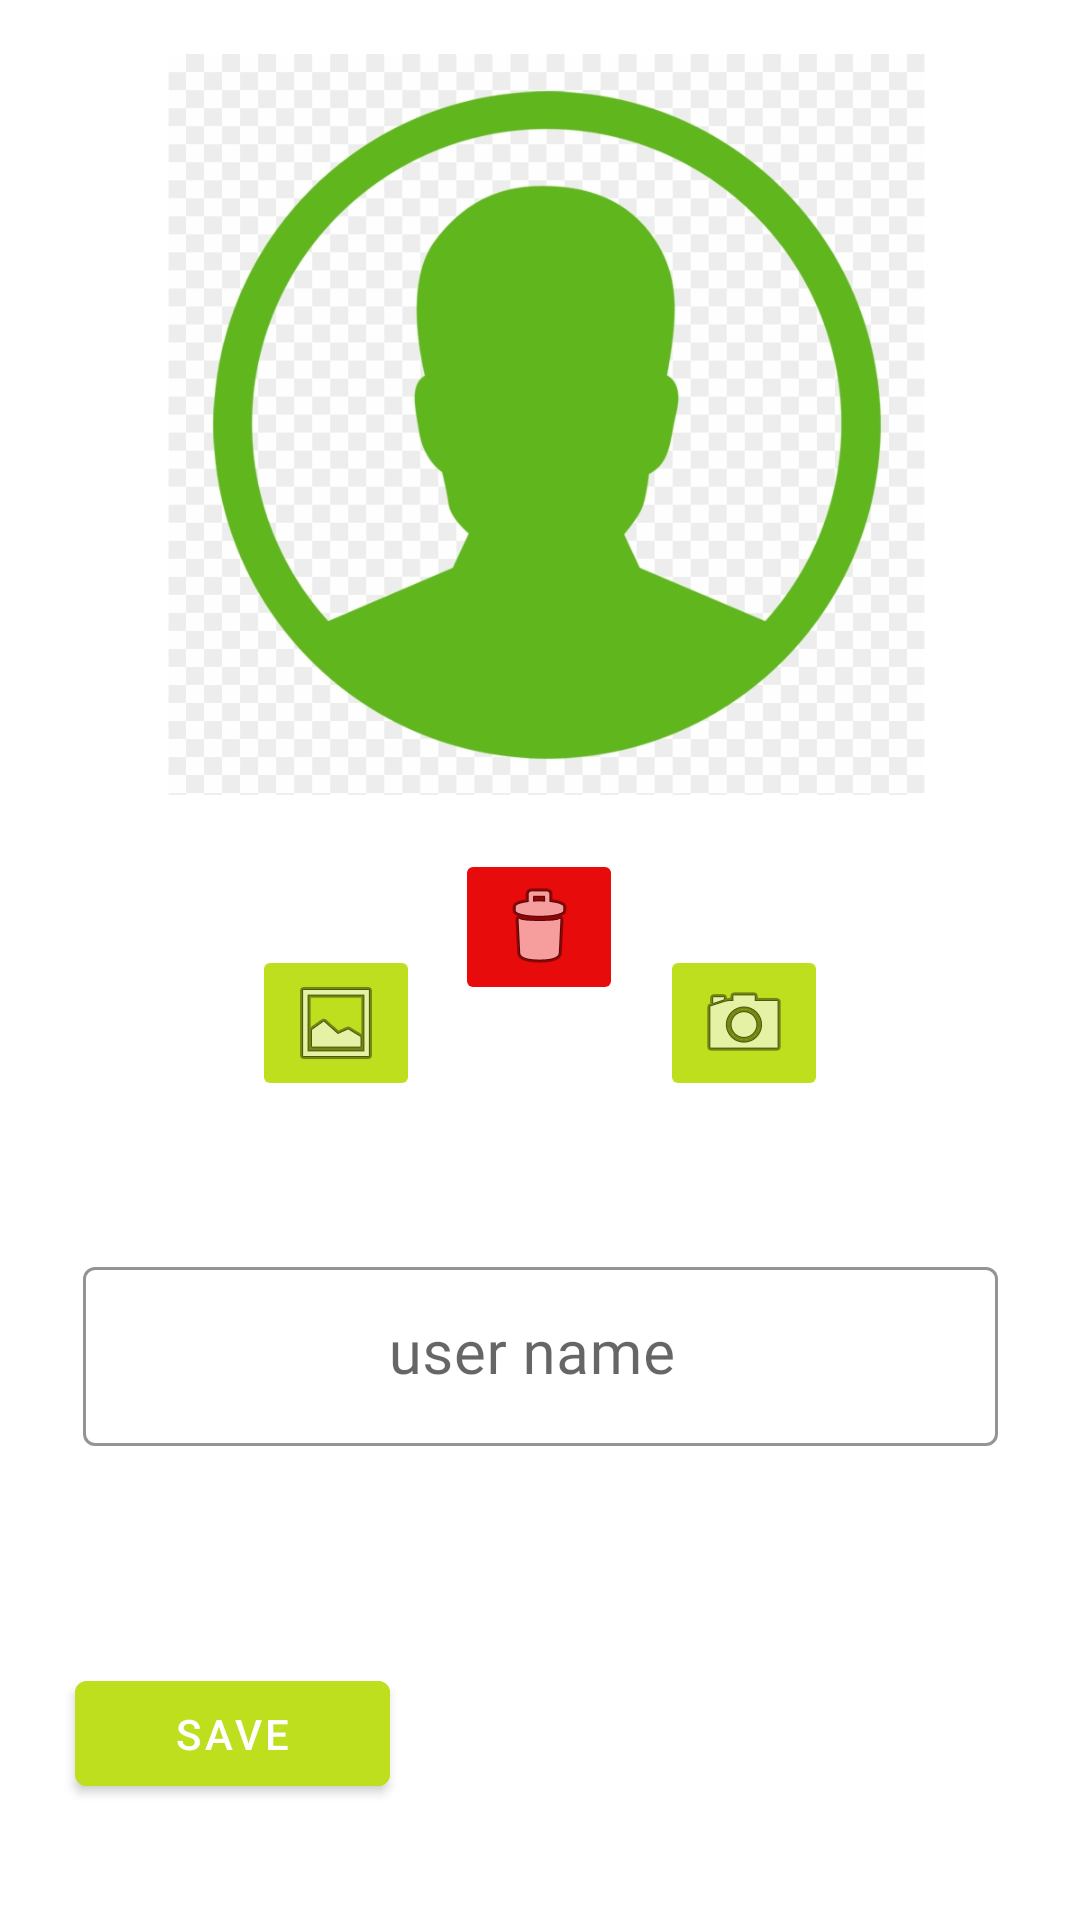

Named icons in this screenshot (1080x1920) and their centers, (x=x, y=y):
camera: (x=744, y=1023)
delete: (x=539, y=927)
gallery: (x=336, y=1023)
